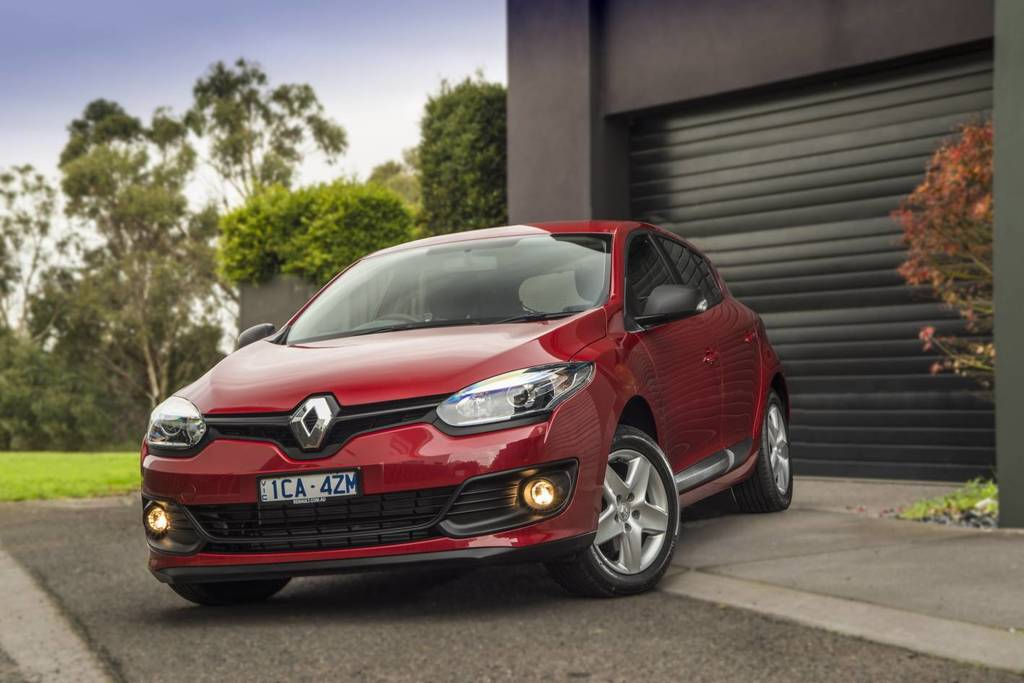Car: (135, 225, 792, 602)
